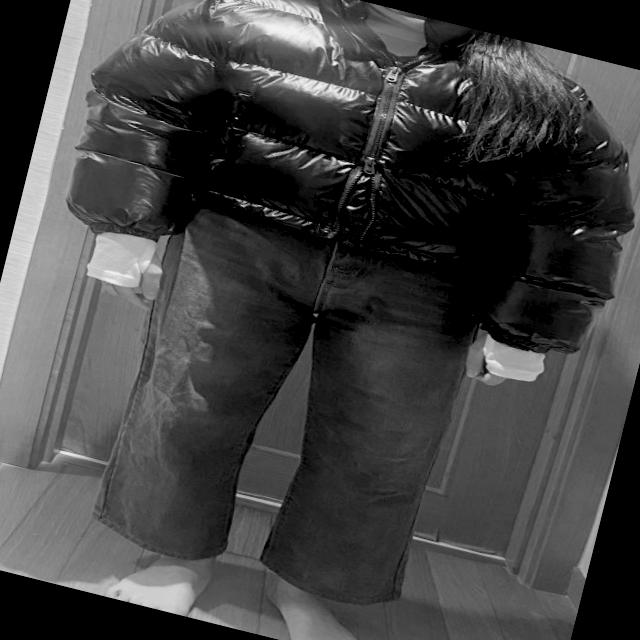denimpants: (85, 184, 502, 623)
padding: (47, 0, 640, 370)
